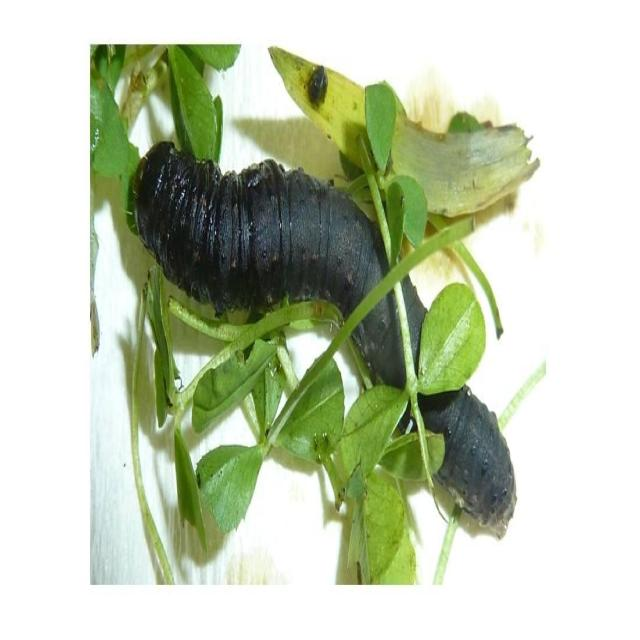black cutworm: (130, 128, 522, 552)
